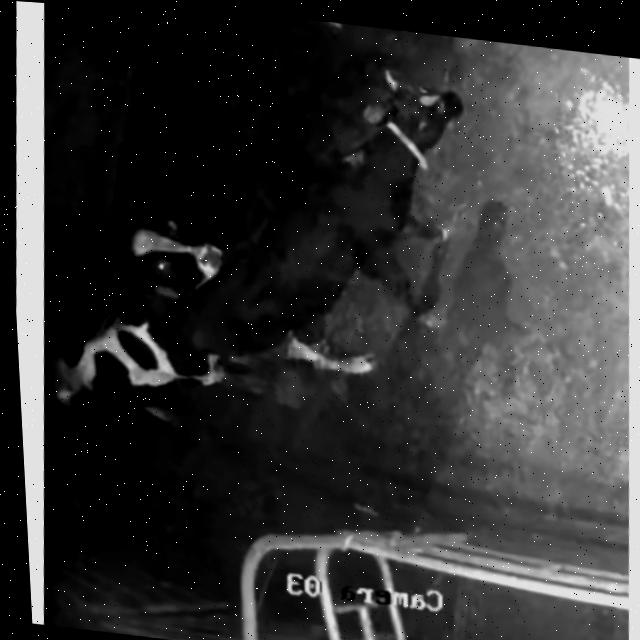propping: (90, 171, 285, 359)
